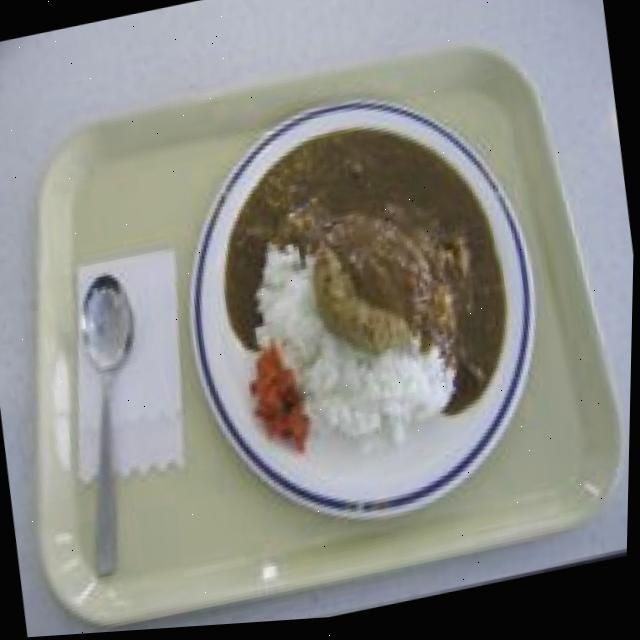牛肉菜式: (159, 67, 561, 553)
